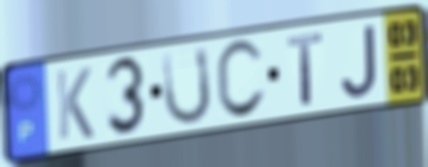3: (102, 53, 152, 141)
C: (213, 36, 269, 124)
J: (339, 21, 380, 100)
K: (53, 64, 96, 143)
T: (285, 29, 327, 109)
U: (160, 44, 214, 129)
